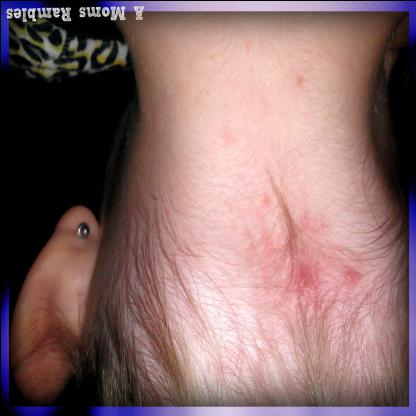Fire ant: (200, 175, 254, 234)
